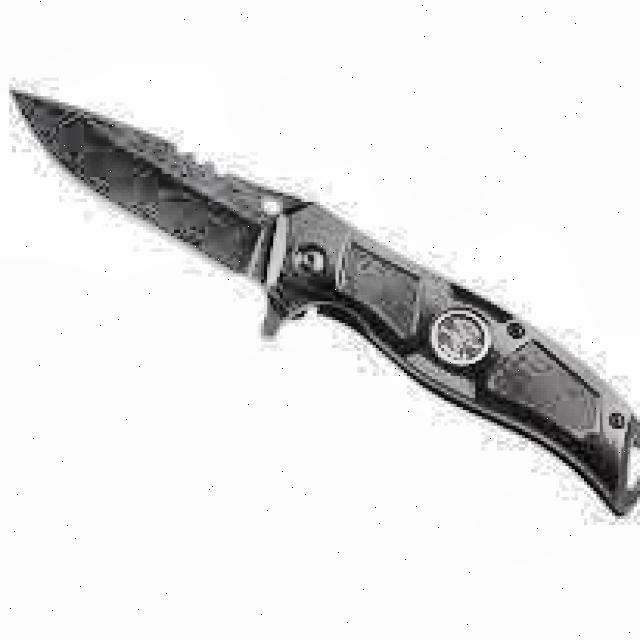knife: (9, 90, 640, 516)
